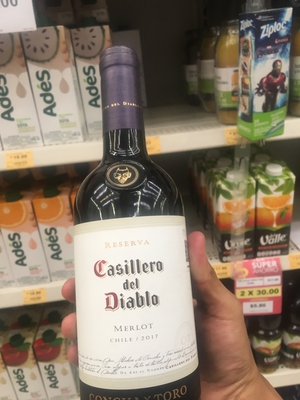casillero del diablo merlot: (63, 49, 196, 399)
